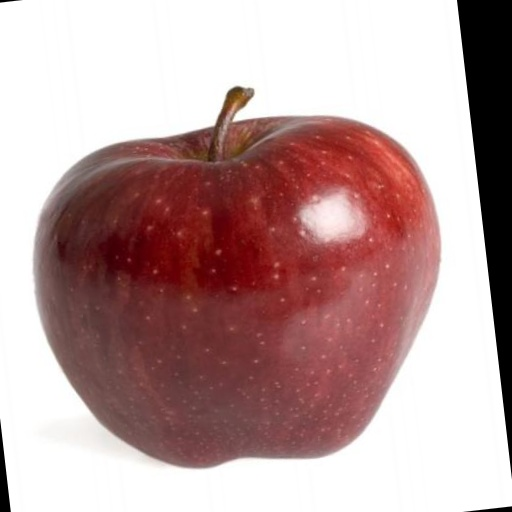fruit: (33, 88, 439, 467)
